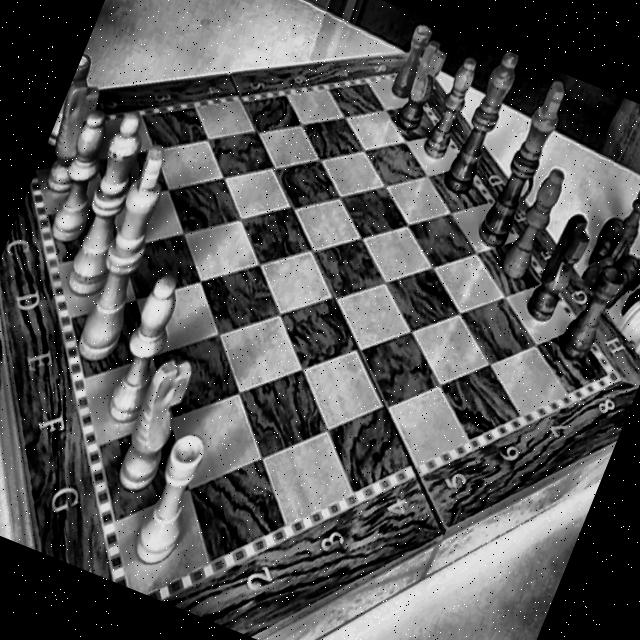black-bishop: (490, 154, 576, 304), (414, 42, 489, 164)
black-king: (468, 69, 578, 270)
black-knight: (511, 192, 605, 350), (382, 26, 457, 164)
black-queen: (431, 48, 527, 228)
black-rook: (552, 261, 629, 375), (382, 15, 436, 100)
